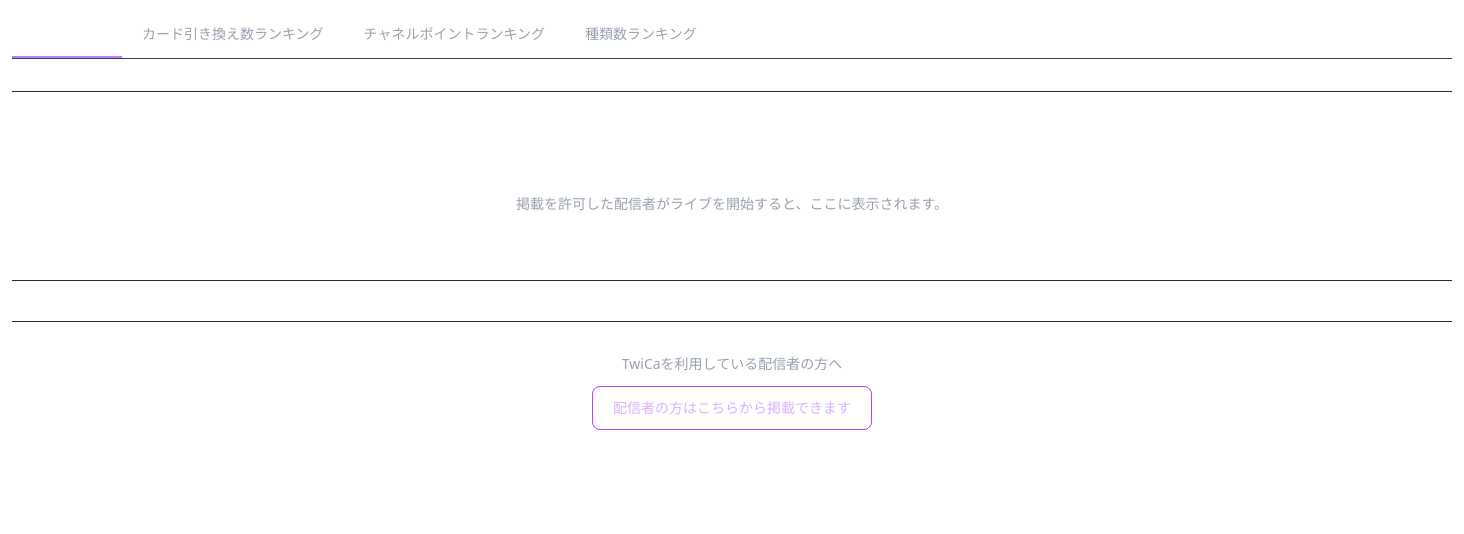
Test: LiveDirectory › shows both empty states and the listing CTA
Click the tab "カード引き換え数ランキング": (233, 35) x1=122 y1=12 x2=344 y2=58
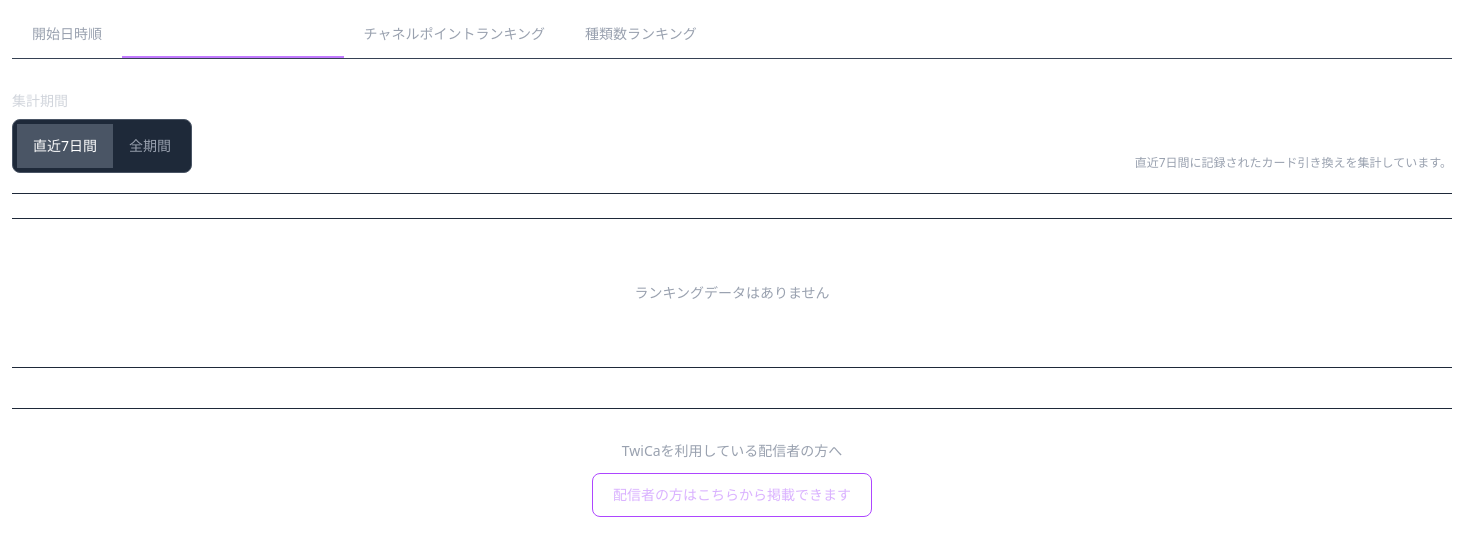
Expected: the text "ランキングデータはありません" is shown, x1=12 y1=218 x2=1452 y2=368
